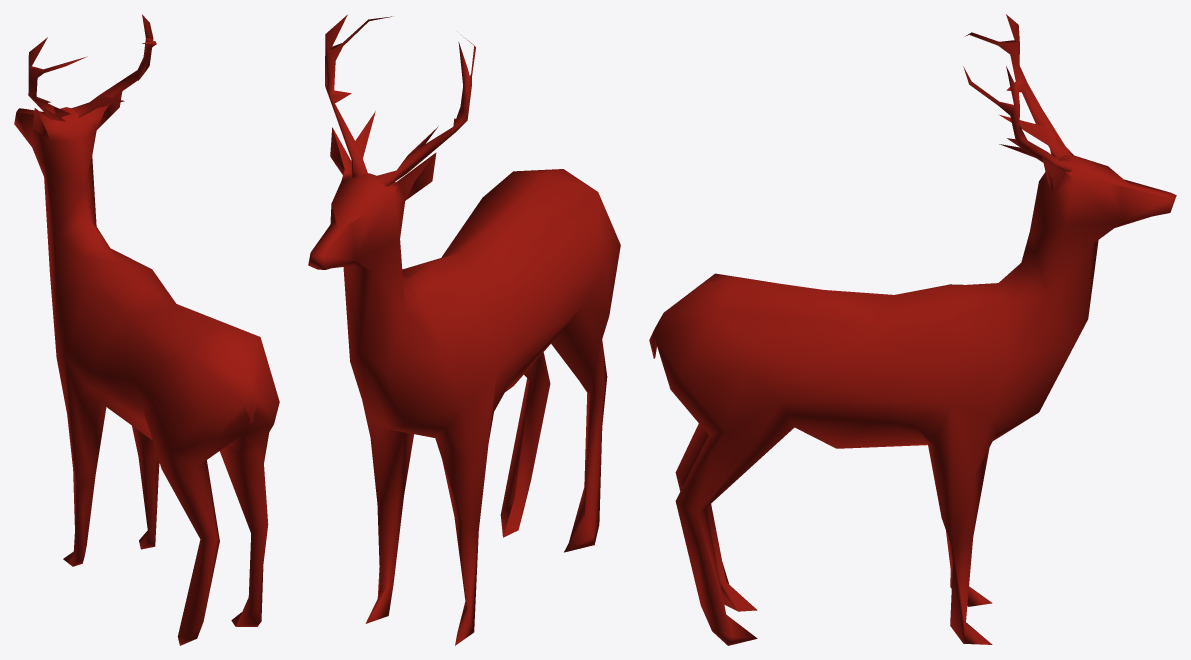
File: deermodel.obj
3 renders of one model, left to right at view 1: azimuth 30°, elevation 25°; view 2: azimuth 150°, elevation 25°; view 3: azimuth 270°, elevation 25°, orthographic. The views are drawn at different scales.
Parts seen in each view (by area): view 1: Deer; view 2: Deer; view 3: Deer.
Boxes of the visible parts, box(x1,y1,x2,y2) form: Deer: box(14, 14, 279, 645); Deer: box(308, 14, 620, 645); Deer: box(649, 14, 1176, 645).
Size of the model in its own units: 0.4164 by 1.67 by 1.36.
